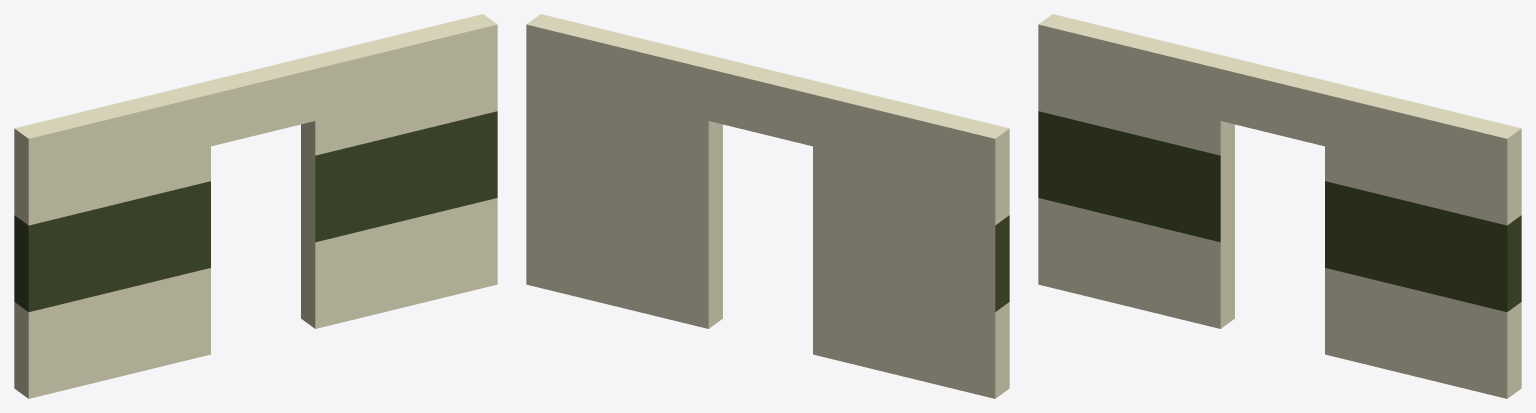
The model's file is wall_doorway_angle_exportprep.gltf.
3 views of the same model, side by side, from view 1: azimuth 30°, elevation 25°; view 2: azimuth 150°, elevation 25°; view 3: azimuth 330°, elevation 25° (orthographic).
Parts seen in each view (by area): view 1: wall_door_angle; view 2: wall_door_angle; view 3: wall_door_angle.
Part boxes in pixels (x1,y1,x2,y2): wall_door_angle: (14, 14, 497, 398); wall_door_angle: (526, 14, 1009, 398); wall_door_angle: (1038, 14, 1521, 398).
Size of the model in its own units: 5.66 by 3 by 0.3.
